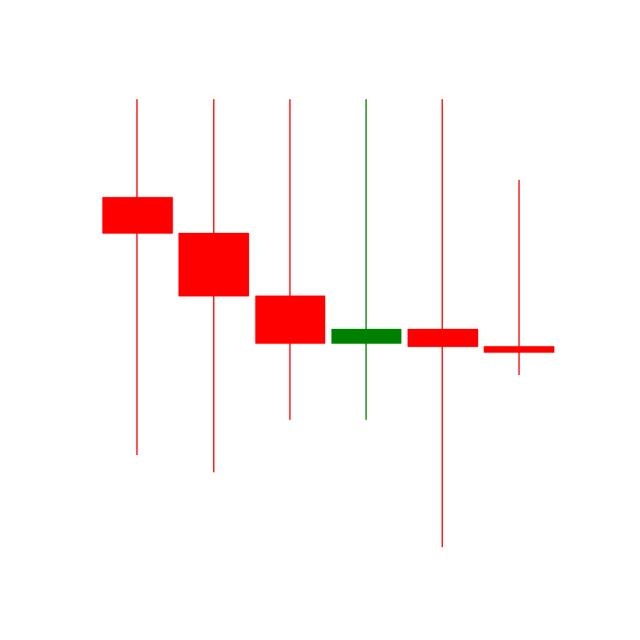High Wave: (403, 94, 481, 552)
Long-Legged Doji: (96, 93, 176, 464)
